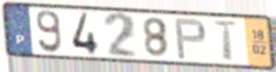2: (102, 11, 141, 60)
4: (70, 10, 101, 57)
8: (141, 16, 171, 59)
9: (35, 9, 64, 55)
P: (173, 17, 208, 61)
T: (212, 19, 241, 63)
